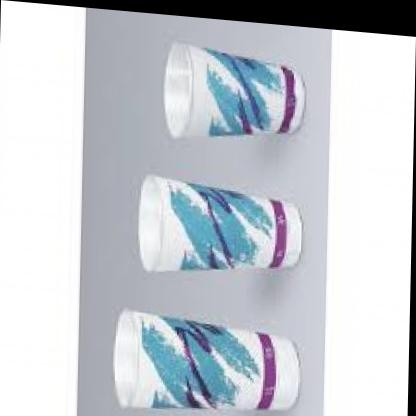trash: (114, 309, 299, 409), (139, 175, 301, 271), (164, 42, 304, 137)
